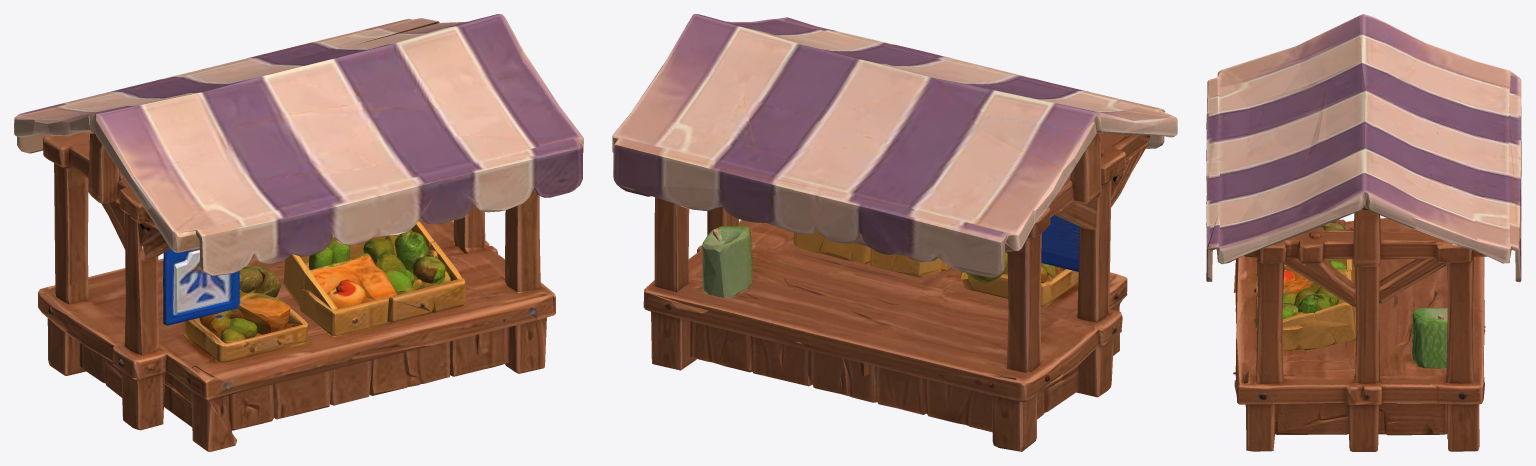
The model's file is market_stall.glb.
3 views of the same model, side by side, from view 1: azimuth 30°, elevation 25°; view 2: azimuth 150°, elevation 25°; view 3: azimuth 270°, elevation 25° (orthographic). The views are drawn at different scales.
Parts seen in each view (by area): view 1: output_unwrapped; view 2: output_unwrapped; view 3: output_unwrapped.
Part boxes in pixels (x1,y1,x2,y2): output_unwrapped: (14, 14, 583, 451); output_unwrapped: (612, 14, 1177, 451); output_unwrapped: (1206, 14, 1521, 451).
Size of what is drawn, in the model's own units: 1.43 by 1 by 1.06.
Materials: 1 (1 with a texture image).
